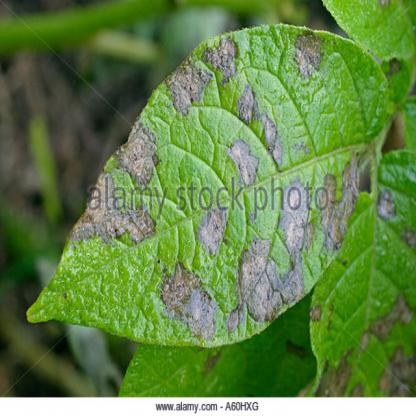potato leaf early blight: (25, 22, 392, 354)
